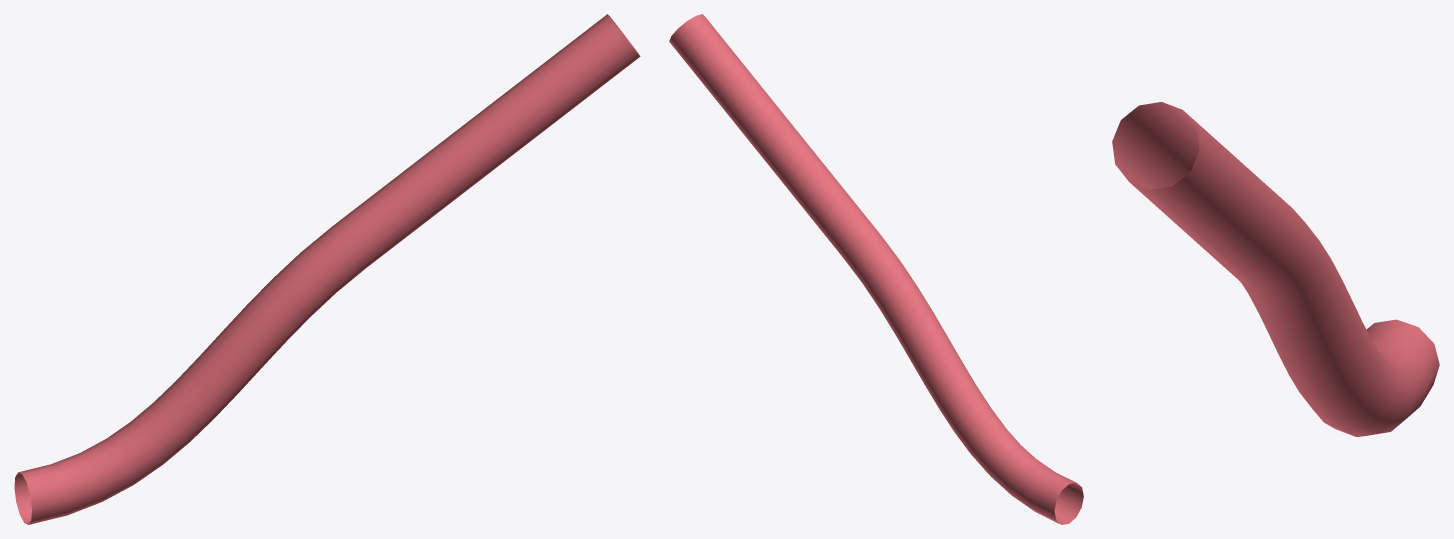
3 renders of one model, left to right at view 1: azimuth 30°, elevation 25°; view 2: azimuth 150°, elevation 25°; view 3: azimuth 270°, elevation 25°, orthographic. The views are drawn at different scales.
Visible parts, largest first — view 1: ZA_48ba3cbf4606dc84; view 2: ZA_48ba3cbf4606dc84; view 3: ZA_48ba3cbf4606dc84.
Part boxes in pixels (x1,y1,x2,y2): ZA_48ba3cbf4606dc84: (14, 14, 640, 524); ZA_48ba3cbf4606dc84: (669, 14, 1083, 524); ZA_48ba3cbf4606dc84: (1112, 102, 1439, 436).
Bounding box in the file's own units: 0.00822 × 0.00619 × 0.00255.
